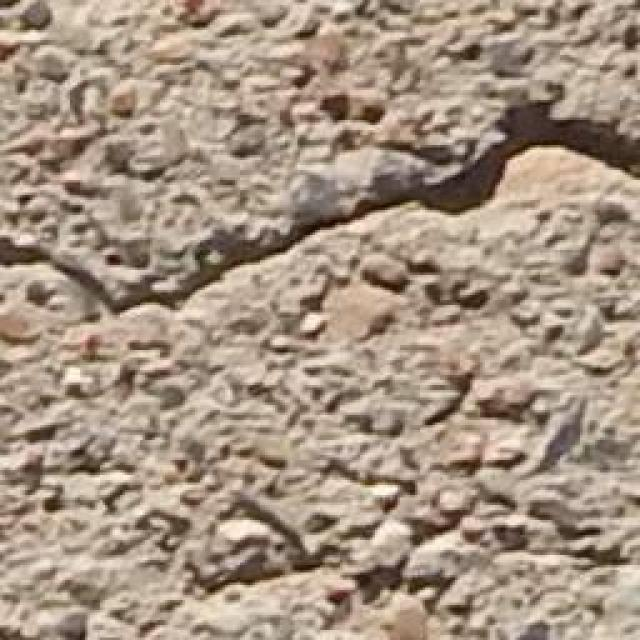concrete-crack: (0, 69, 640, 332), (166, 478, 497, 637)
